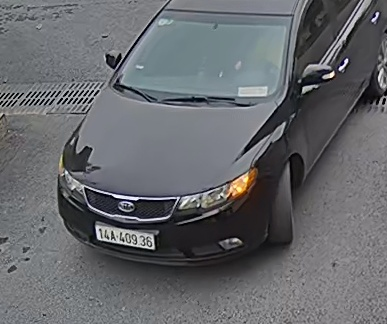vehicle plate: (91, 212, 156, 255)
